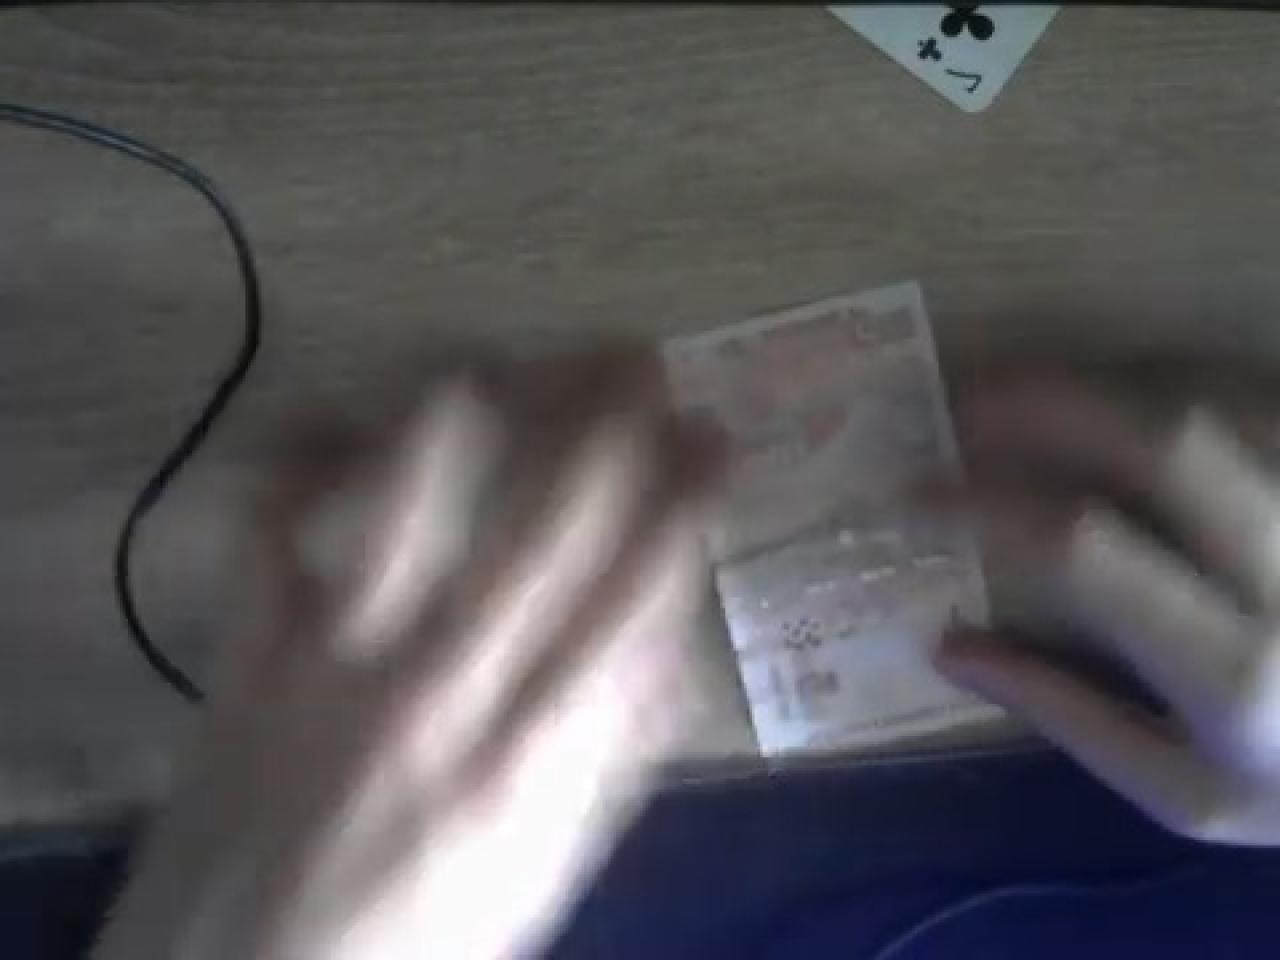5leva: (674, 277, 1029, 765)
